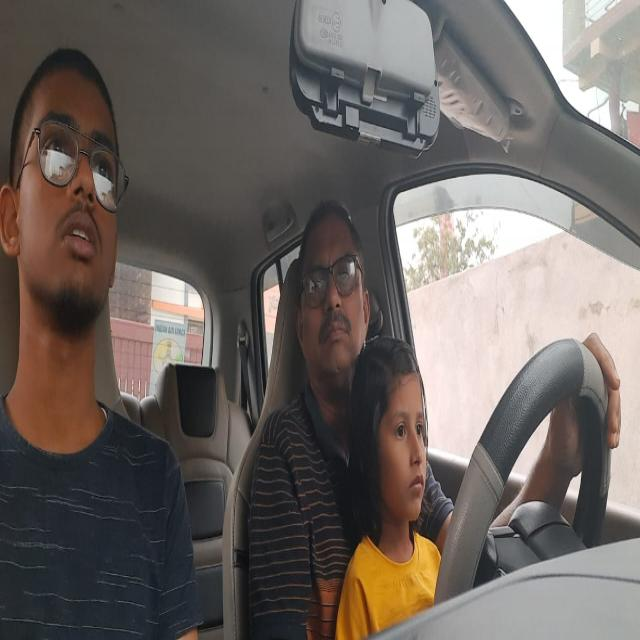child: (356, 322, 438, 537)
person: (0, 38, 134, 382), (296, 188, 372, 398)
